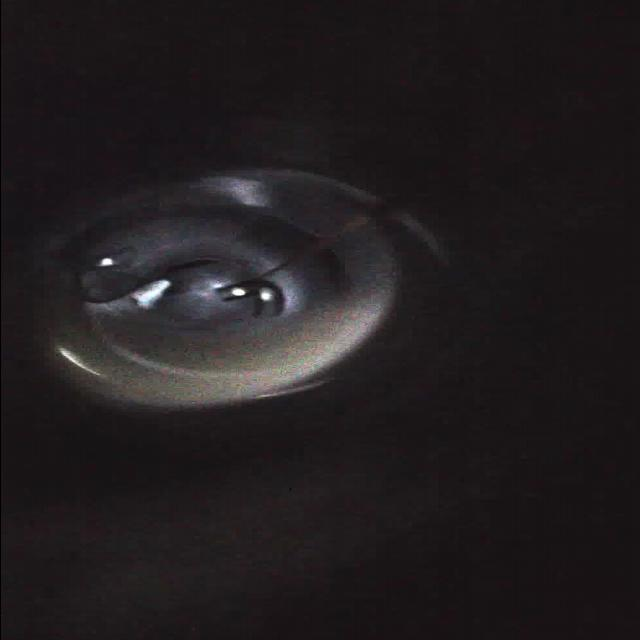impurity: (76, 267, 136, 307), (134, 270, 178, 314)
